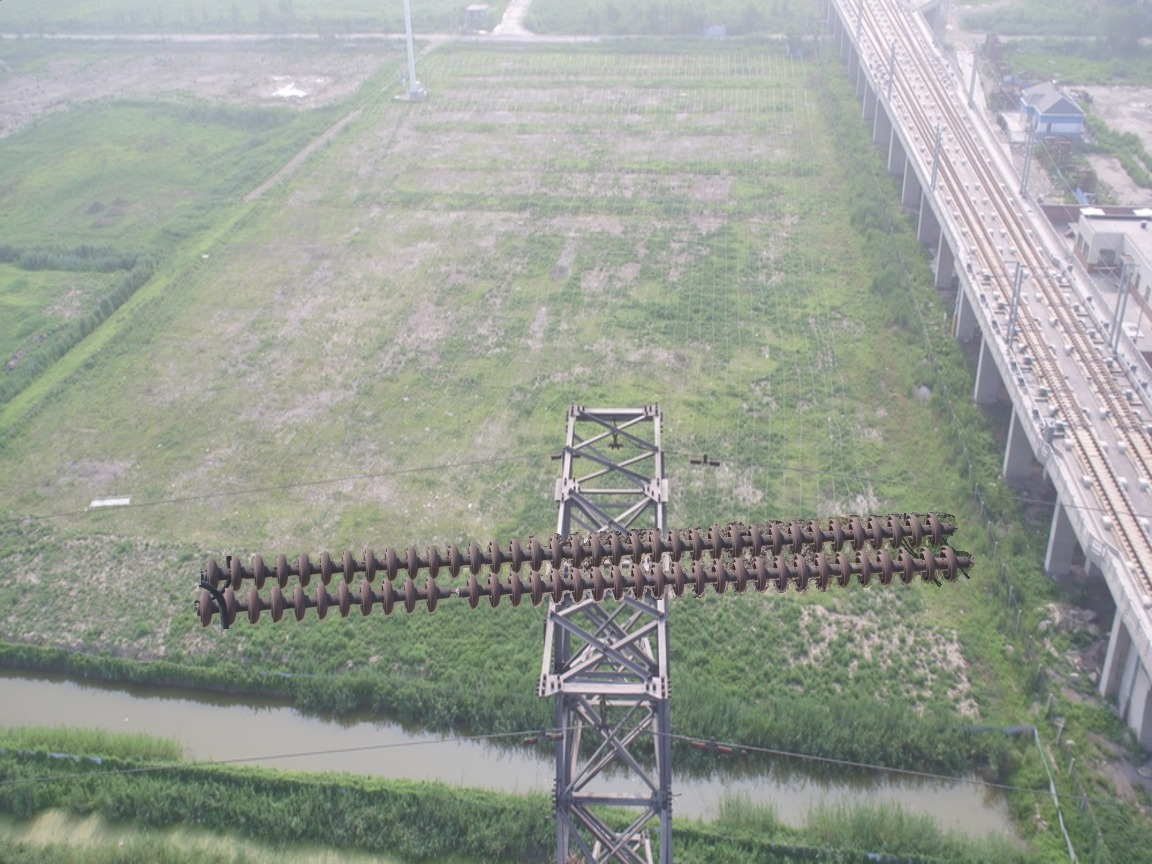defect: (417, 575, 486, 616)
